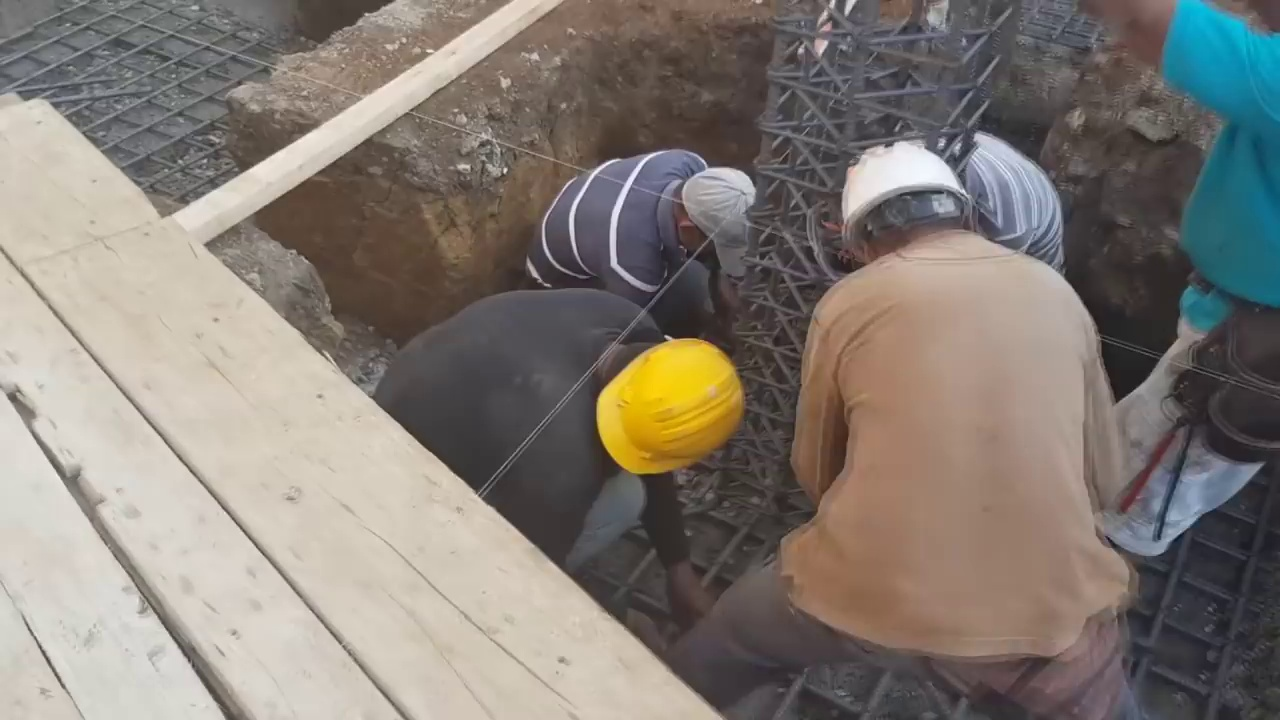helmet: (595, 337, 744, 476), (841, 138, 975, 250)
helmet-off: (658, 171, 751, 295)
helmet-on: (582, 331, 746, 480), (838, 140, 978, 272)
person: (667, 139, 1156, 717), (373, 286, 749, 627), (1118, 0, 1268, 565), (538, 151, 755, 368), (930, 118, 1072, 278)
